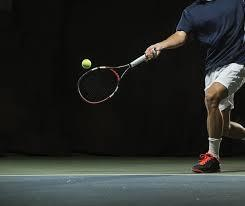ball_tennis: (81, 58, 92, 70)
